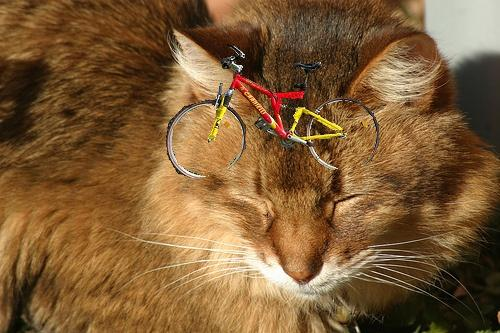tampered: (167, 45, 379, 178)
